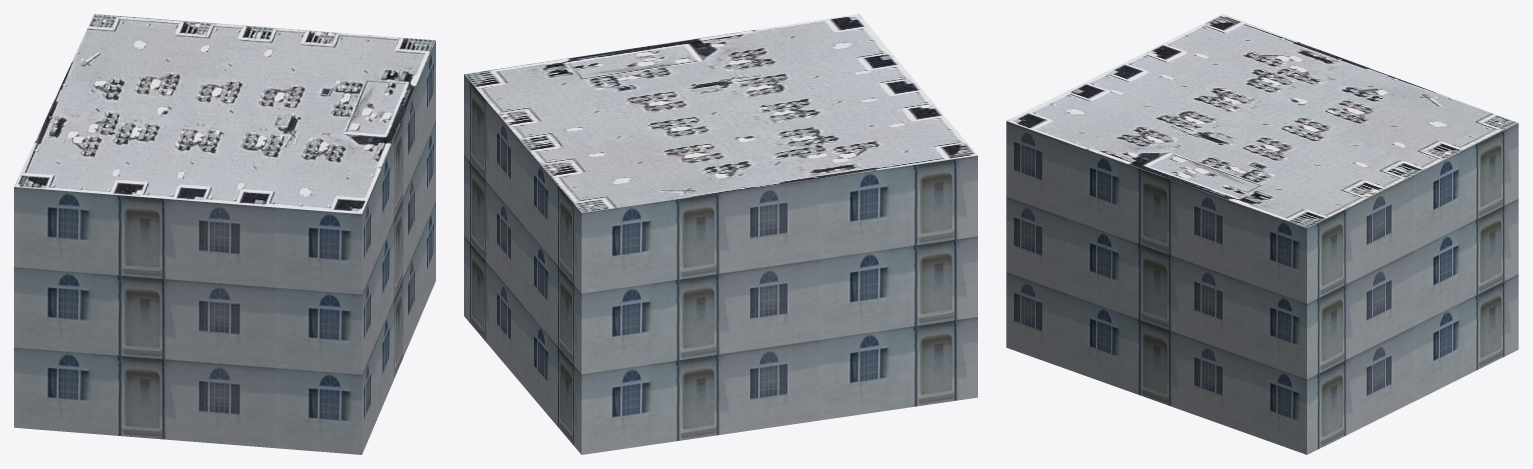
The model's file is ResTex__1757.fbx.
The picture shows the model from 3 angles, left to right: view 1: azimuth 30°, elevation 25°; view 2: azimuth 150°, elevation 25°; view 3: azimuth 270°, elevation 25°; orthographic projection. The views are drawn at different scales.
Visible parts, largest first — view 1: CityEngineMaterial_17_m, CityEngineMaterial_4_m; view 2: CityEngineMaterial_17_m, CityEngineMaterial_4_m; view 3: CityEngineMaterial_17_m, CityEngineMaterial_4_m.
Part boxes in pixels (x1,y1,x2,y2): CityEngineMaterial_17_m: (14, 41, 435, 454); CityEngineMaterial_4_m: (14, 14, 435, 214); CityEngineMaterial_17_m: (464, 74, 977, 454); CityEngineMaterial_4_m: (464, 14, 977, 212); CityEngineMaterial_17_m: (1006, 121, 1518, 454); CityEngineMaterial_4_m: (1007, 14, 1517, 228).
Size of the model in its own units: 18.26 by 9 by 18.44.
2 materials, 2 textured.
